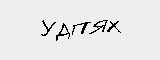Д: (53, 22, 71, 40)
П: (70, 20, 89, 38)
У: (38, 17, 56, 38)
Х: (106, 18, 125, 35)
Я: (88, 17, 107, 36)
